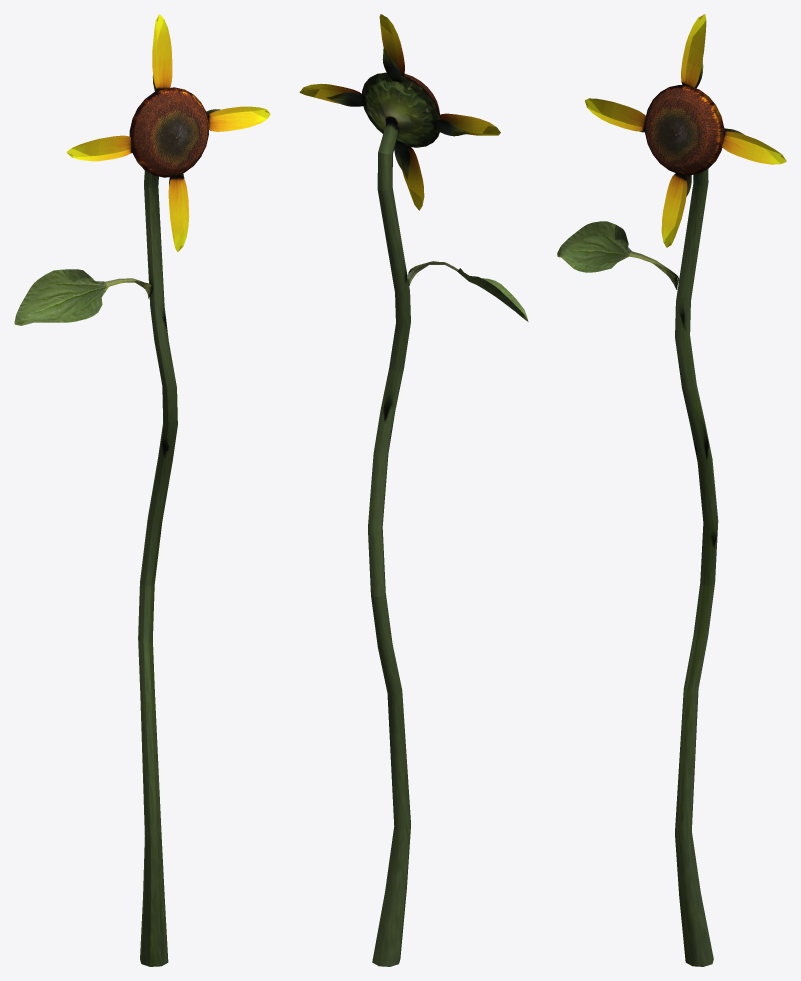
The model's file is sunflower.fbx.
3 renders of one model, left to right at view 1: azimuth 30°, elevation 25°; view 2: azimuth 150°, elevation 25°; view 3: azimuth 330°, elevation 25°, orthographic.
Visible parts, largest first — view 1: polySurface1, polySurface8, group3_polySurface13, polySurface2; view 2: polySurface1, polySurface8, group3_polySurface13, group6_polySurface43, polySurface2; view 3: polySurface1, polySurface8, group3_polySurface13, polySurface2.
Boxes of the visible parts, bbox=[...] form: polySurface1: bbox=[138, 170, 177, 966]; polySurface8: bbox=[129, 87, 208, 177]; group3_polySurface13: bbox=[66, 14, 270, 251]; polySurface2: bbox=[14, 269, 152, 325]; polySurface1: bbox=[368, 122, 410, 966]; polySurface8: bbox=[362, 72, 440, 147]; group3_polySurface13: bbox=[299, 14, 500, 210]; group6_polySurface43: bbox=[326, 47, 470, 179]; polySurface2: bbox=[407, 261, 528, 321]; polySurface1: bbox=[675, 169, 718, 966]; polySurface8: bbox=[645, 85, 724, 175]; group3_polySurface13: bbox=[585, 14, 786, 247]; polySurface2: bbox=[557, 221, 678, 289].
Bounding box in the file's own units: 44.63 × 166 × 12.71.
Materials: 1 (1 with a texture image).
